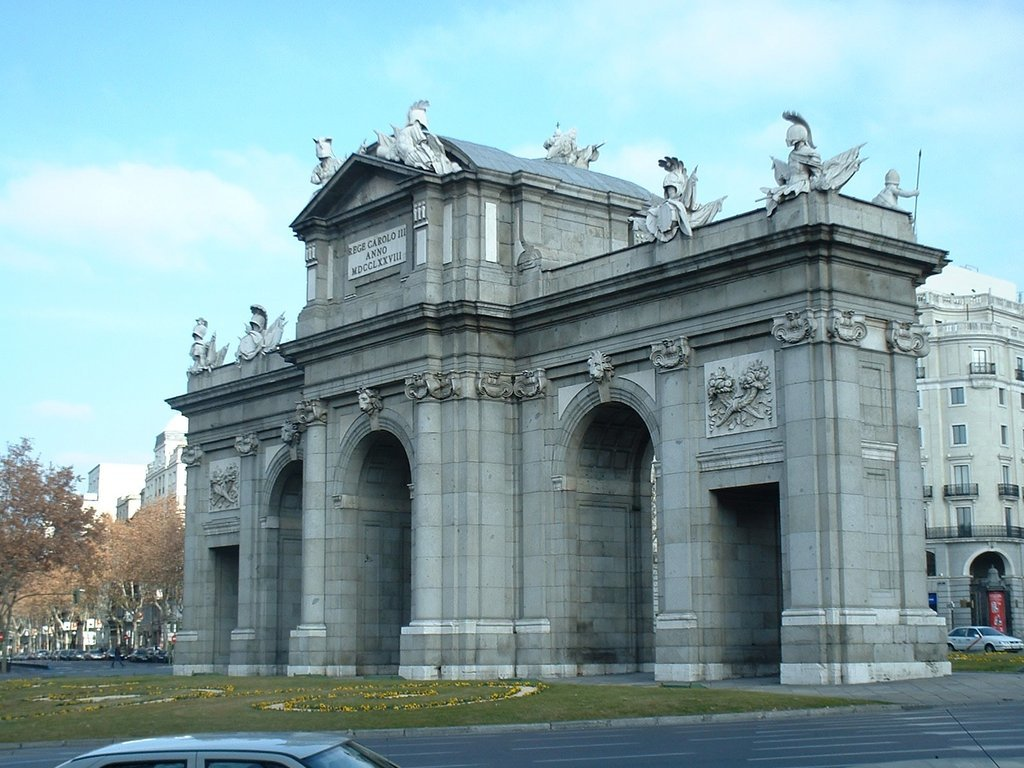Car: (54, 736, 400, 768), (947, 626, 1024, 652)
